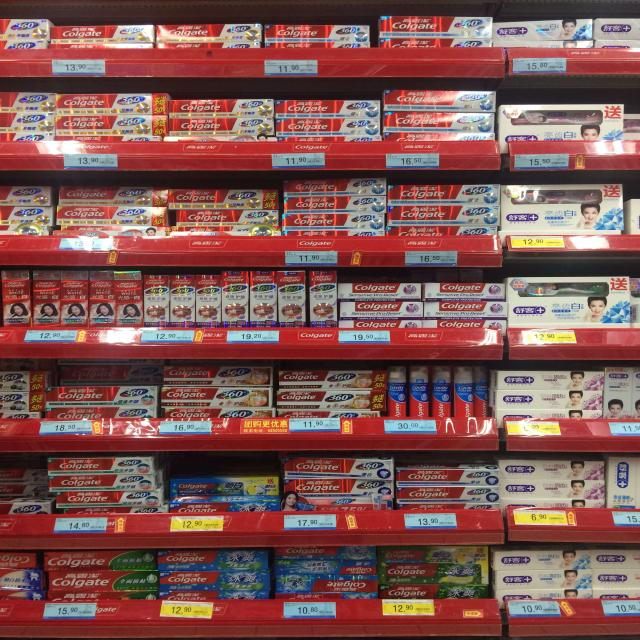unorganised: (53, 187, 282, 226), (47, 455, 166, 509), (282, 455, 397, 482), (54, 362, 163, 387), (379, 545, 487, 567), (170, 476, 283, 497), (492, 17, 594, 39), (283, 177, 386, 196), (271, 548, 379, 564), (1, 466, 49, 497), (473, 366, 491, 419)
